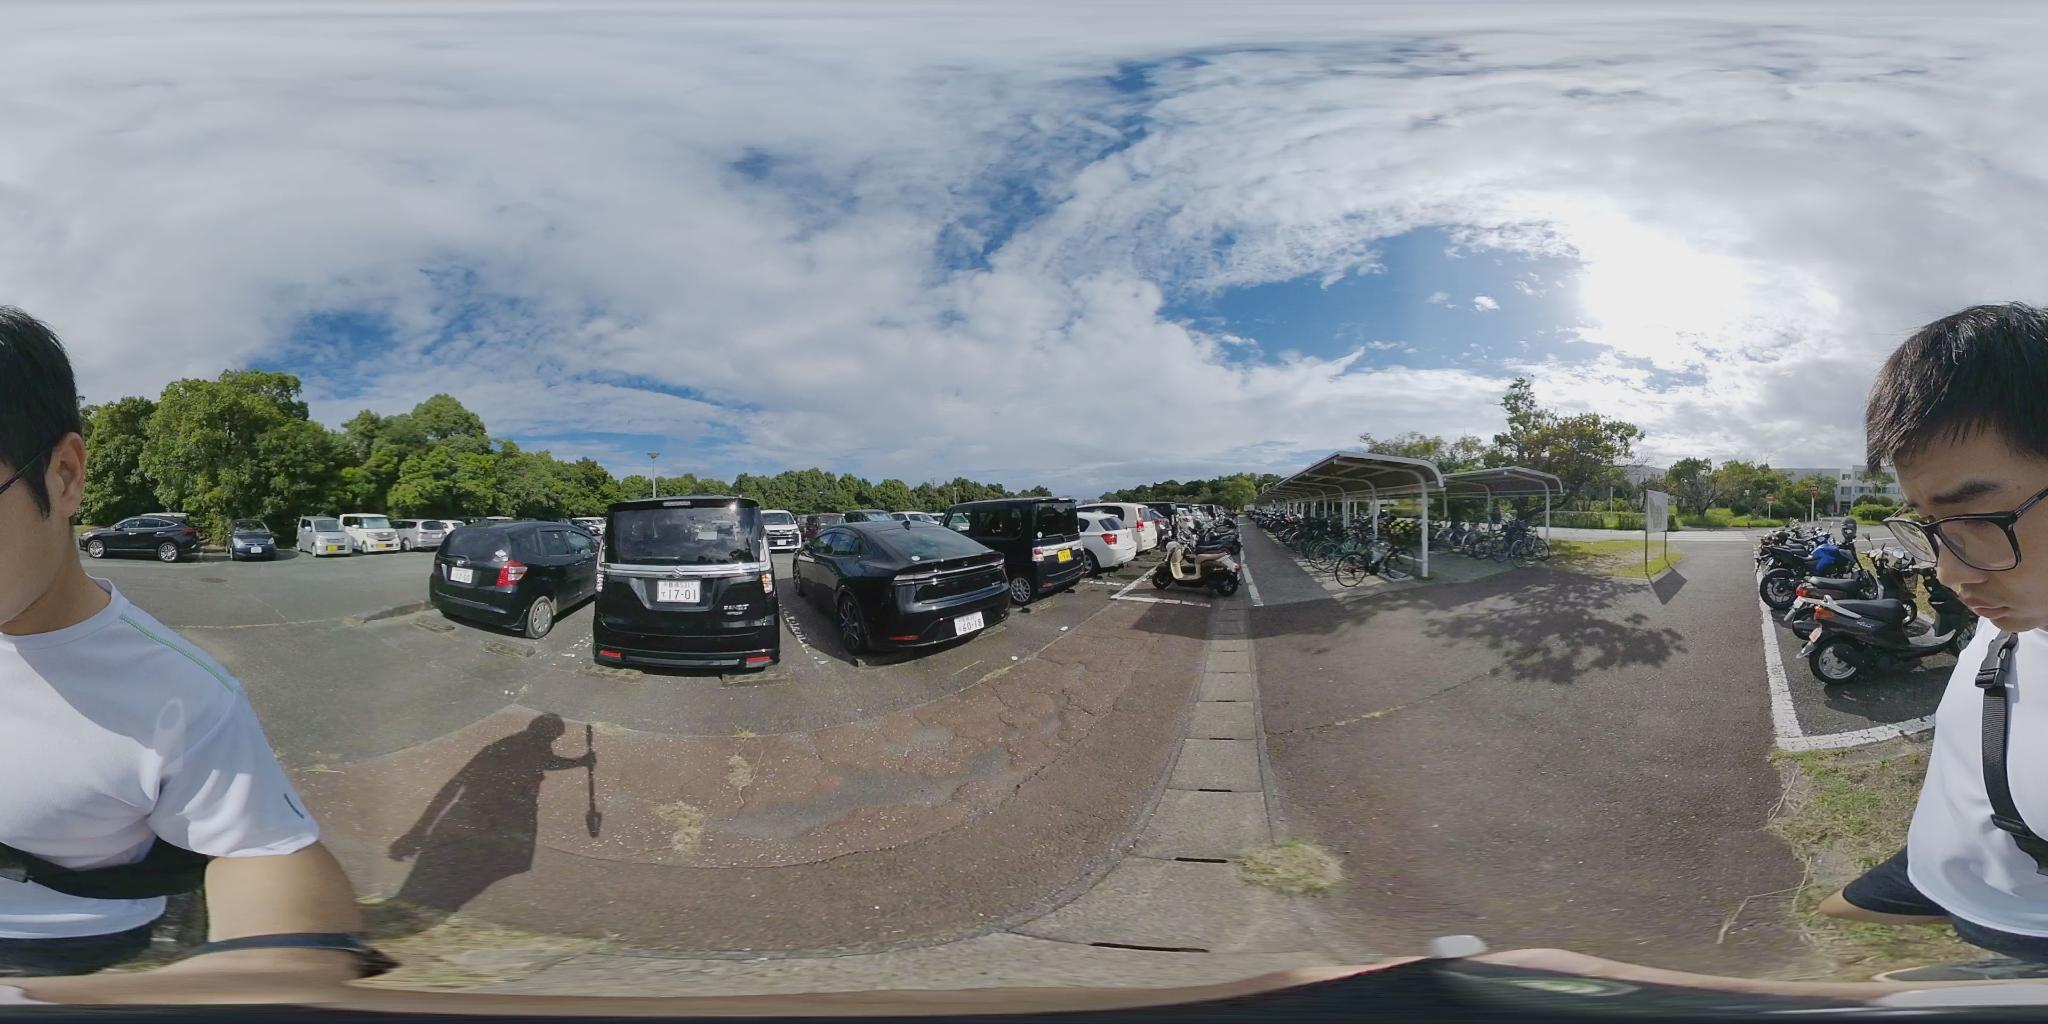car: (597, 494, 776, 677), (789, 522, 999, 650), (428, 520, 600, 640), (940, 498, 1081, 601), (81, 516, 201, 563), (406, 522, 464, 550), (234, 529, 280, 559)
